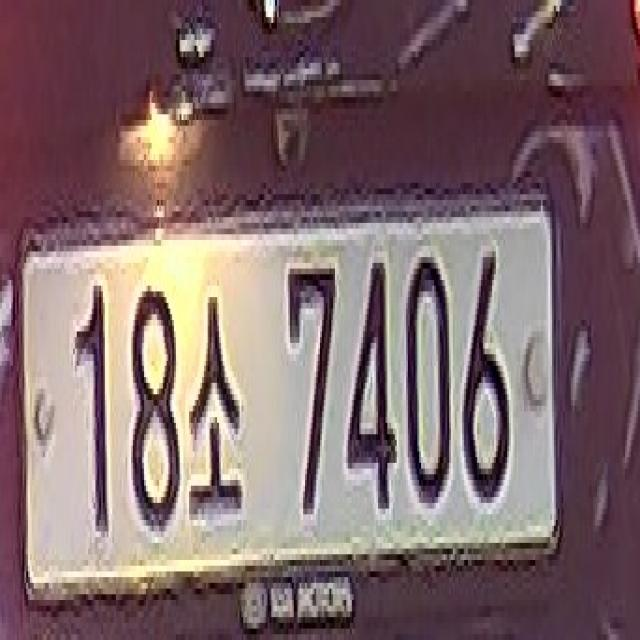0: (404, 240, 451, 514)
1: (70, 274, 112, 549)
4: (344, 245, 400, 526)
6: (458, 235, 514, 514)
7: (284, 252, 340, 532)
8: (128, 274, 186, 549)
license_plate: (13, 171, 565, 640)
so: (186, 286, 243, 537)
